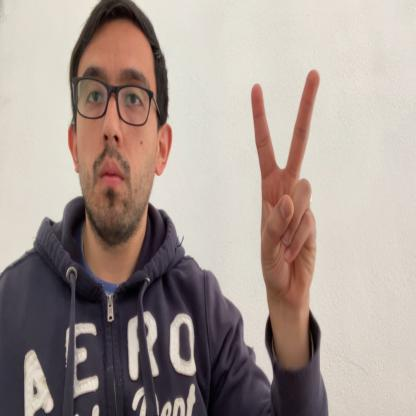V: (252, 69, 321, 308)
